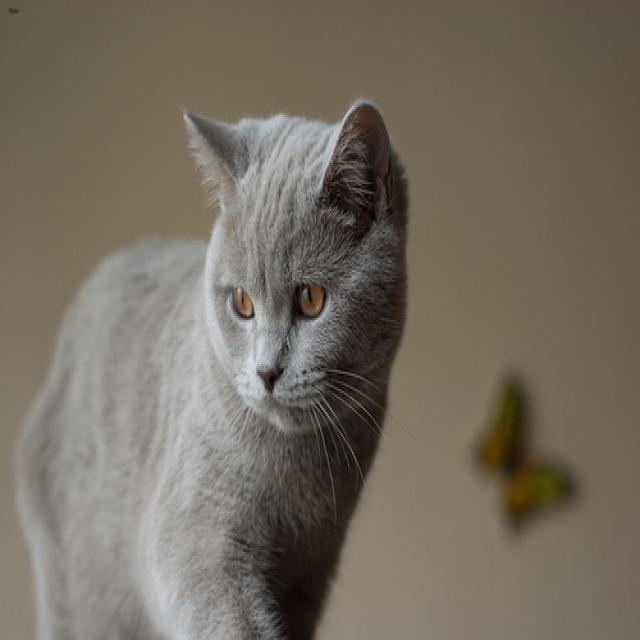British_Shorthair: (173, 92, 418, 441)
